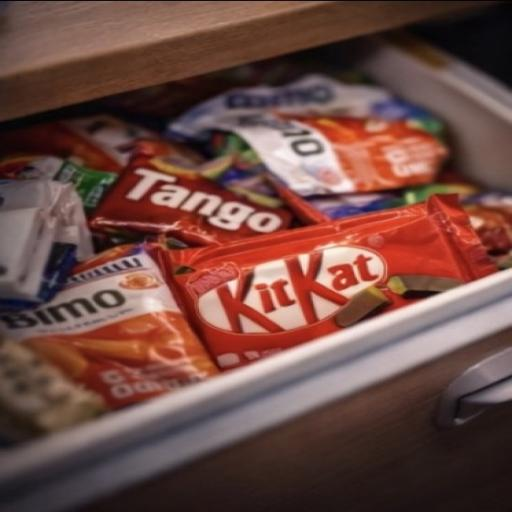kitkat: (127, 201, 512, 389)
